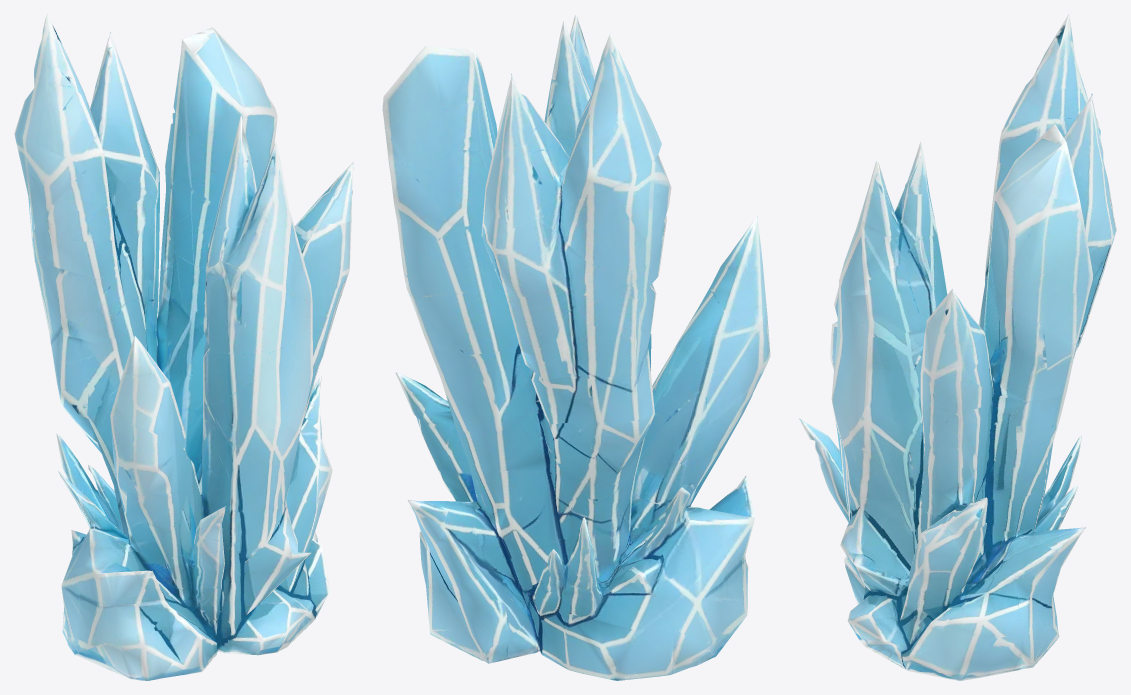
Rendered from ice_shard.glb.
3 views of the same model, side by side, from view 1: azimuth 30°, elevation 25°; view 2: azimuth 150°, elevation 25°; view 3: azimuth 270°, elevation 25° (orthographic). The views are drawn at different scales.
Size of the model in its own units: 0.9641 by 1.9 by 0.9592.
Materials: 1 (1 with a texture image).
